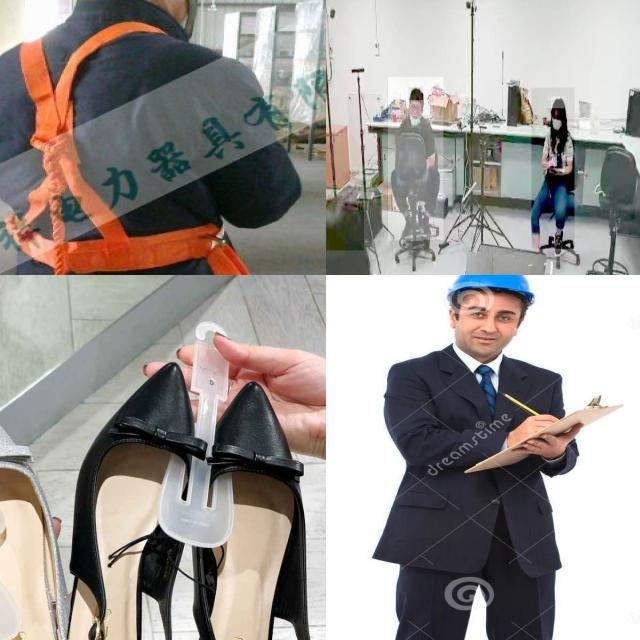Harness: (0, 32, 209, 275)
No_Ear-Protection: (434, 275, 555, 369)
Sandals: (63, 347, 326, 640)
face_mask: (550, 108, 565, 138)
face_nomask: (408, 101, 422, 119)
hand_noglove: (549, 154, 557, 167)
head_nohelmet: (326, 195, 364, 251), (408, 87, 424, 101), (551, 97, 565, 109)
person: (388, 77, 444, 241), (531, 88, 575, 250)
shoes: (397, 211, 415, 241), (550, 226, 566, 258), (418, 212, 434, 241)
